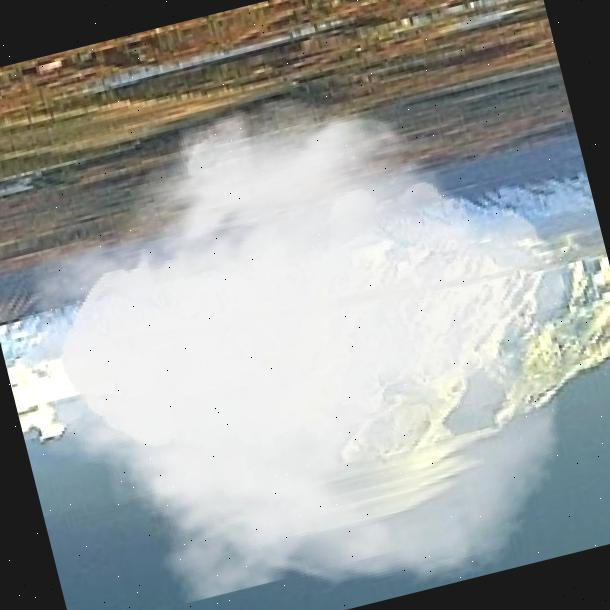smoke: (0, 35, 610, 610)
